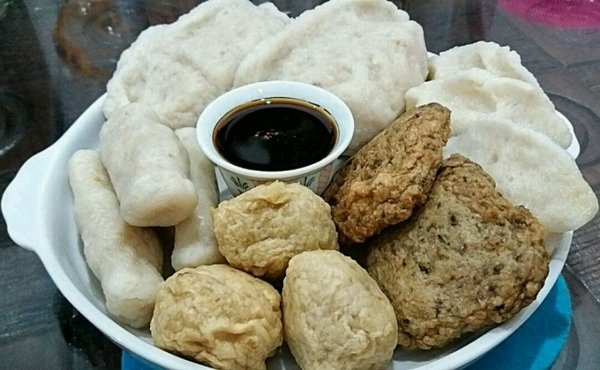pempek: (67, 2, 600, 370)
